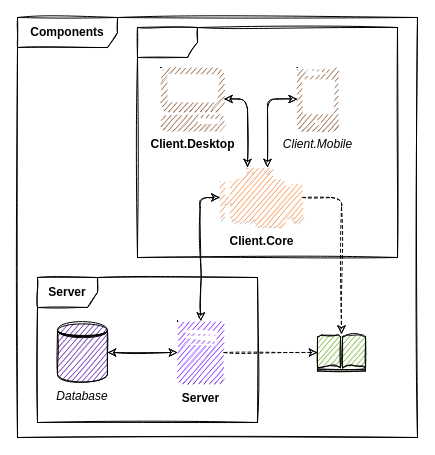
Image size: 435x455. Some labels were removed from this diagram. Here are the shapes that lost their labels. From the top down, the centre of each, then its label:
(x=267, y=142): Client
(x=341, y=352): Utilities.Cryptography
